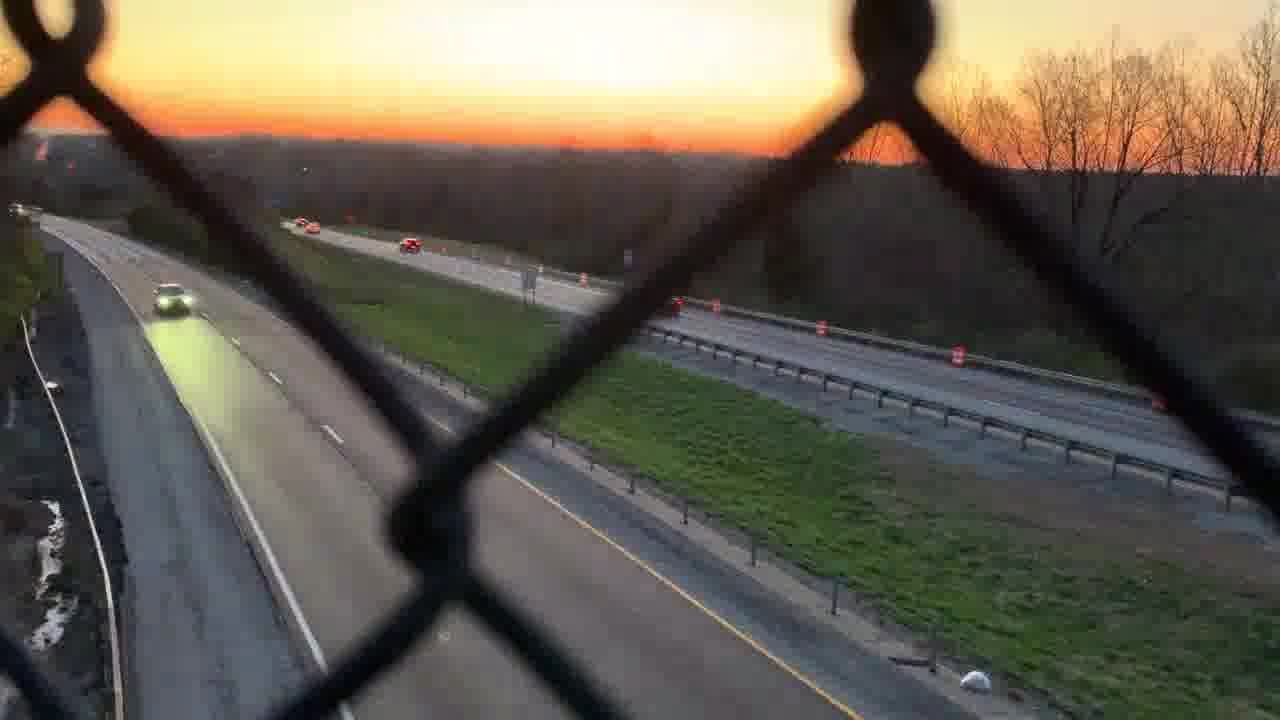largeCar: (151, 285, 196, 313)
